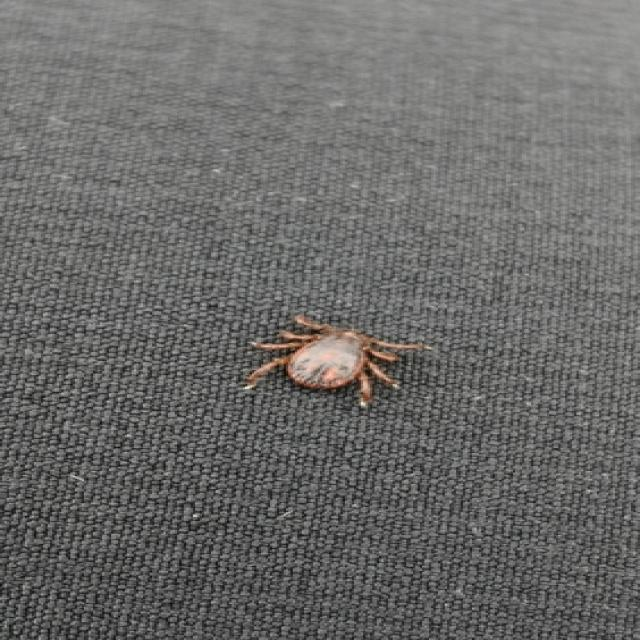Rhipicephalus Sanguineus-M: (243, 315, 429, 408)
